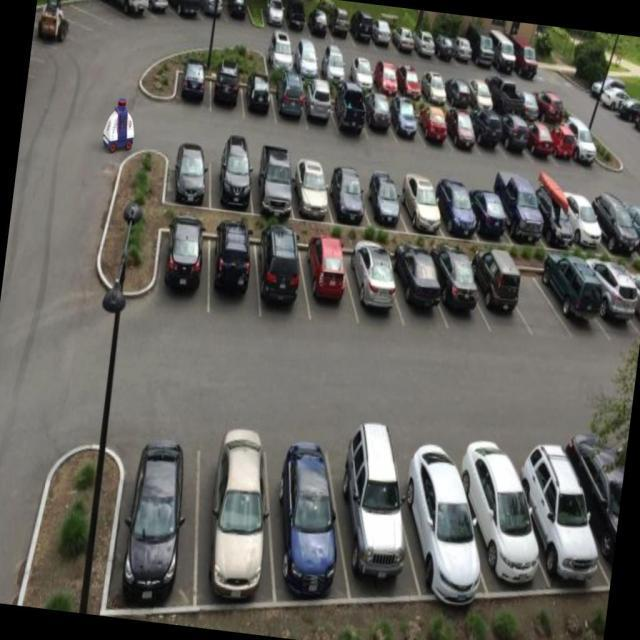car: (390, 432, 500, 607), (509, 428, 616, 602), (258, 419, 354, 600), (326, 425, 425, 600), (456, 427, 554, 590), (116, 438, 202, 618), (190, 436, 281, 602), (560, 408, 630, 573), (538, 236, 614, 352), (147, 212, 218, 328), (244, 213, 308, 334), (293, 228, 362, 338), (384, 237, 452, 347), (342, 234, 409, 345), (466, 238, 532, 349), (200, 212, 262, 326), (578, 240, 640, 347), (426, 240, 488, 346), (518, 169, 586, 254), (424, 168, 486, 246), (491, 167, 548, 248), (211, 132, 267, 214), (586, 172, 640, 254), (394, 164, 450, 243), (286, 144, 338, 226), (165, 136, 218, 216), (323, 150, 373, 234), (356, 160, 410, 237), (554, 172, 607, 250), (259, 137, 305, 215), (465, 173, 513, 247), (355, 76, 401, 144), (171, 46, 216, 115), (326, 76, 372, 140), (265, 64, 314, 124), (438, 99, 485, 160), (238, 58, 281, 124), (312, 36, 357, 96), (484, 69, 532, 123), (206, 58, 248, 118), (299, 76, 342, 130), (340, 38, 383, 92), (536, 75, 582, 124), (414, 97, 452, 152), (497, 108, 535, 162), (258, 31, 296, 84), (288, 31, 326, 84), (384, 10, 424, 60), (462, 64, 499, 118), (366, 8, 404, 60), (391, 52, 428, 105), (417, 57, 457, 106), (369, 48, 407, 98), (511, 70, 549, 120), (618, 180, 640, 264), (426, 20, 466, 66), (388, 96, 426, 144), (524, 116, 562, 164), (445, 26, 483, 74), (348, 1, 384, 51), (34, 0, 84, 34), (488, 27, 524, 74), (469, 110, 507, 154), (442, 69, 479, 113), (97, 0, 153, 29), (300, 0, 338, 42), (510, 37, 546, 81), (570, 120, 604, 166), (256, 0, 294, 40), (547, 119, 579, 166), (322, 0, 357, 42), (186, 0, 235, 29), (469, 26, 502, 68), (413, 18, 444, 58), (163, 0, 206, 26), (214, 0, 252, 29), (31, 0, 56, 44), (283, 0, 313, 36), (134, 0, 174, 21)
free: (508, 244, 570, 353), (83, 0, 135, 34), (57, 0, 109, 31)
